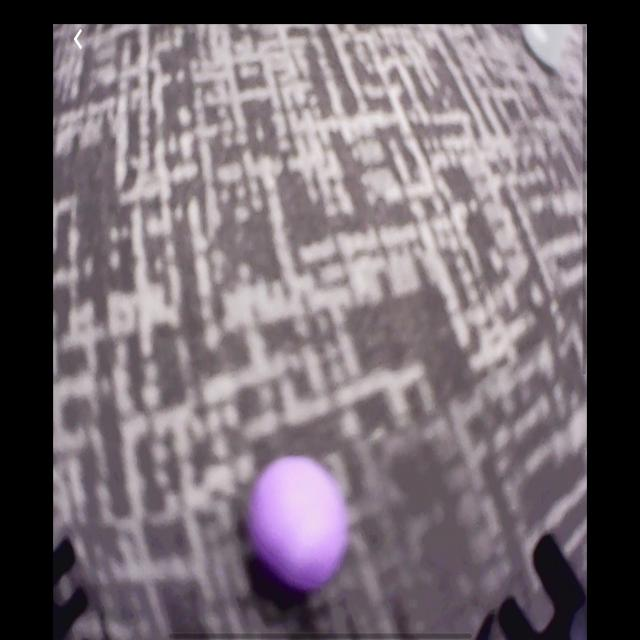ball: (246, 452, 350, 594)
